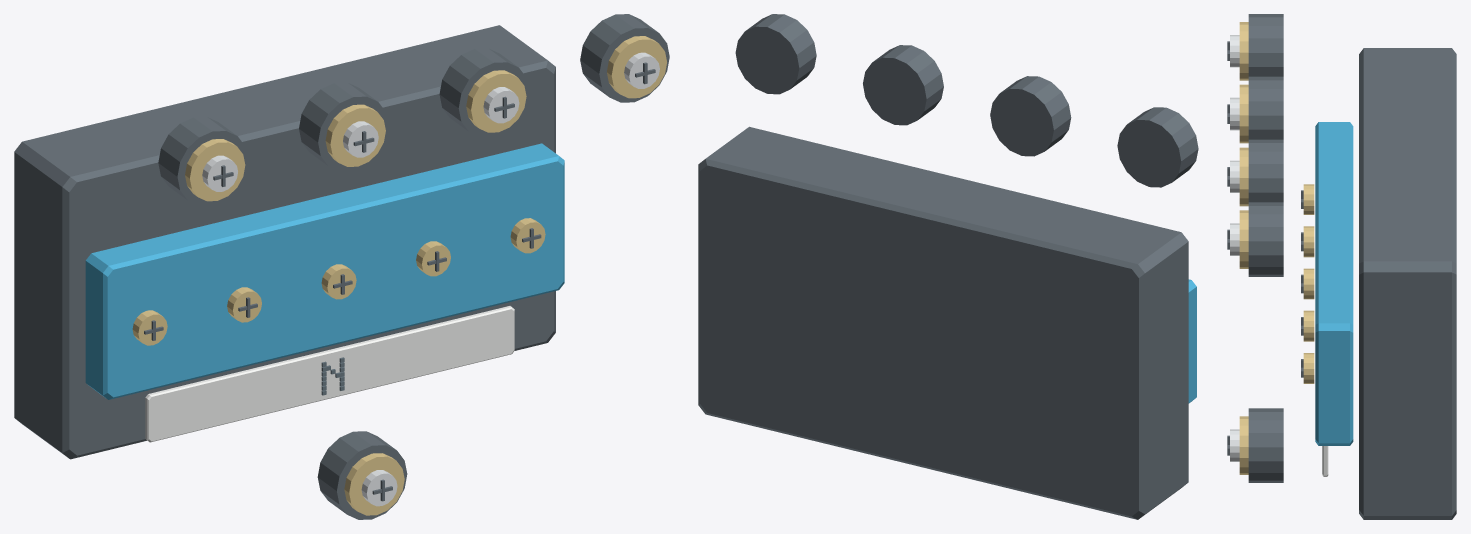
File: neutralBar.glb
3 views of the same model, side by side, from view 1: azimuth 30°, elevation 25°; view 2: azimuth 150°, elevation 25°; view 3: azimuth 270°, elevation 25° (orthographic). The views are drawn at different scales.
Visible parts, largest first — view 1: neutralBar-preview; view 2: neutralBar-preview; view 3: neutralBar-preview.
Boxes of the visible parts, bbox=[...] form: neutralBar-preview: bbox=[14, 14, 669, 519]; neutralBar-preview: bbox=[698, 14, 1198, 519]; neutralBar-preview: bbox=[1227, 14, 1456, 519].
Bounding box in the file's own units: 2.42 × 1.81 × 0.9644.
